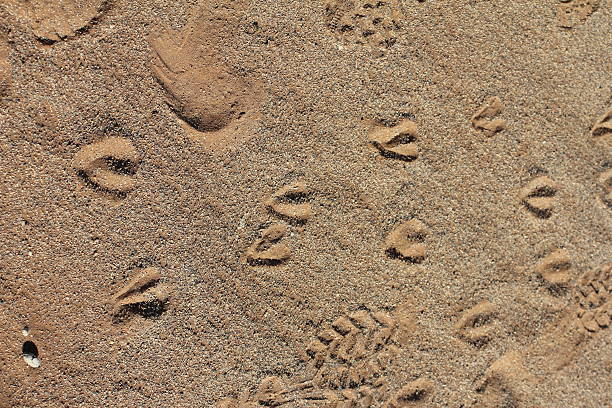animal_foot_print: (217, 309, 433, 407), (475, 263, 611, 407), (150, 12, 258, 149), (3, 0, 112, 43), (73, 137, 139, 197), (325, 0, 403, 49), (474, 351, 535, 407), (112, 267, 168, 319), (575, 263, 612, 333), (369, 119, 418, 160), (264, 181, 312, 222), (385, 218, 428, 262), (453, 301, 497, 344), (245, 223, 290, 265), (519, 175, 558, 217), (384, 378, 434, 407), (471, 96, 506, 135), (535, 249, 571, 284), (556, 0, 600, 27), (0, 28, 12, 98), (591, 109, 611, 141), (598, 168, 612, 208)
